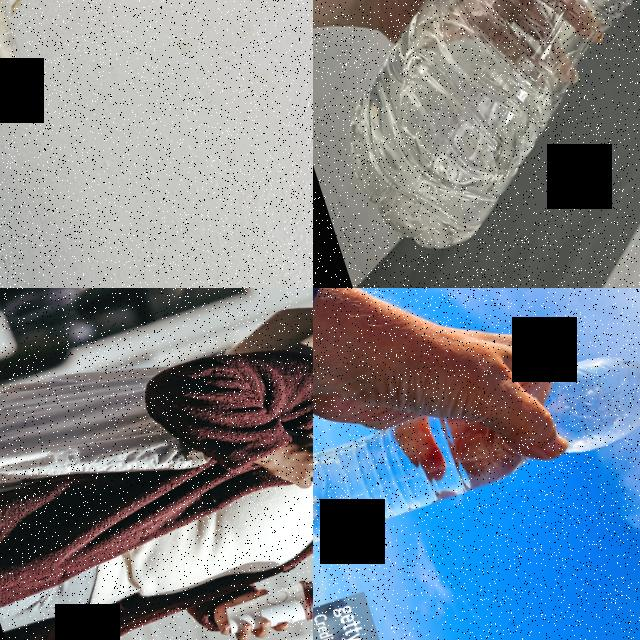bottle: (313, 0, 640, 271), (313, 326, 640, 554)
cup: (220, 575, 313, 640)
